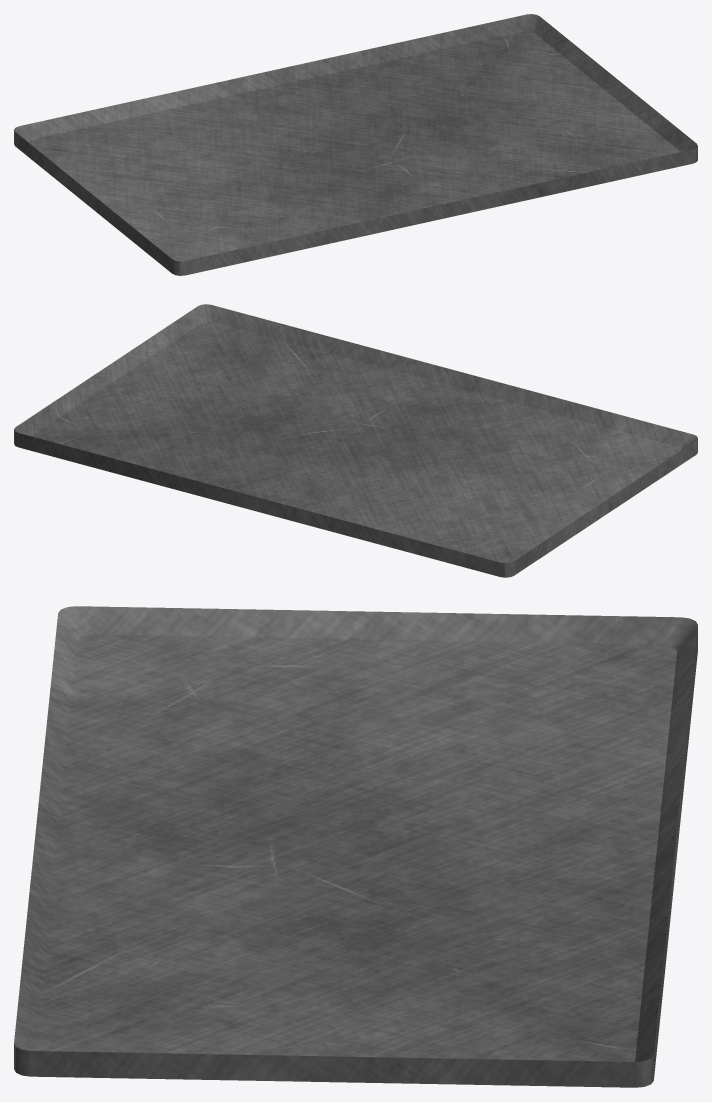
Rendered from Tray.fbx.
3 renders of one model, top to bottom at view 1: azimuth 30°, elevation 25°; view 2: azimuth 150°, elevation 25°; view 3: azimuth 270°, elevation 25°, orthographic. The views are drawn at different scales.
Parts seen in each view (by area): view 1: Tray; view 2: Tray; view 3: Tray.
Boxes of the visible parts, x1,y1,x2,y2 form: Tray: (14,14,697,275); Tray: (14,304,697,577); Tray: (14,606,697,1087).
Bounding box in the file's own units: 75.77 × 2 × 48.06.
Materials: 1 (1 with a texture image).
